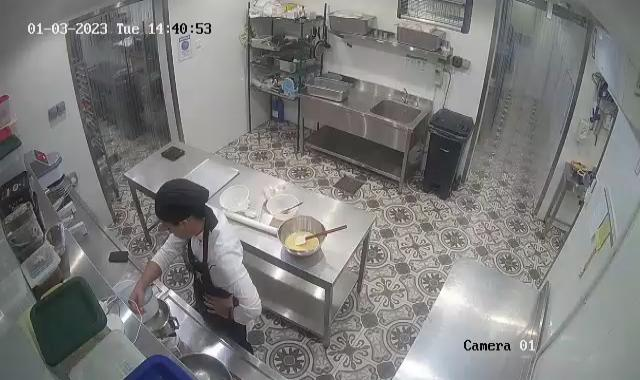no_hairnet: (151, 178, 212, 231)
